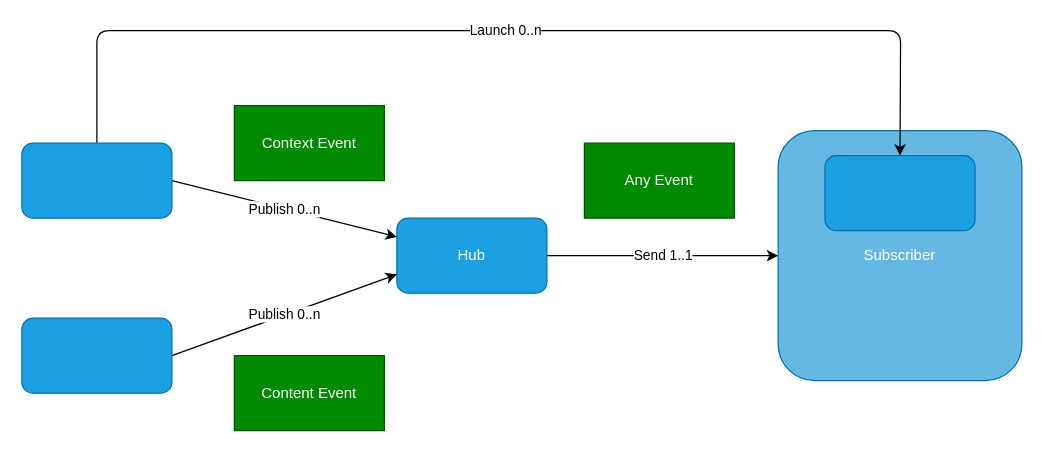
Image size: 1044x453. Some labels were removed from this diagram. The centre of each missing label's shape, as x and y in pixels:
"Driving Application" belongs at [96,180].
"Report Content Creator" belongs at [96,355].
"Synchronizing Application" belongs at [899,192].
